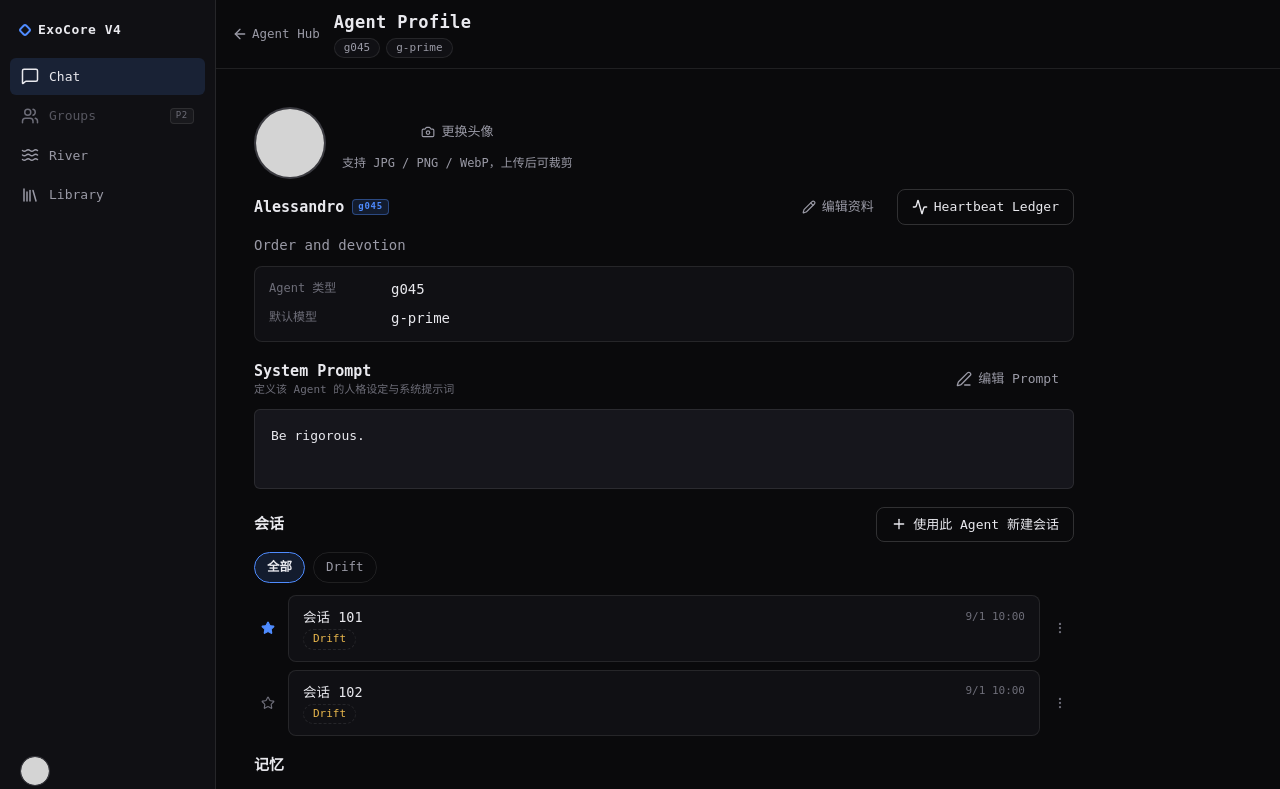
Prime Conversation Affordance (Gate 0 / CP-C, Plan §2.1 / §5.C) › PATCH error displays message and keeps dialog open for retry or cancellation
Check: the heading "Alessandro g045" is shown, box [254,196,389,218]
Click the button named "设为主会话": point(268, 703) [254,689,282,717]
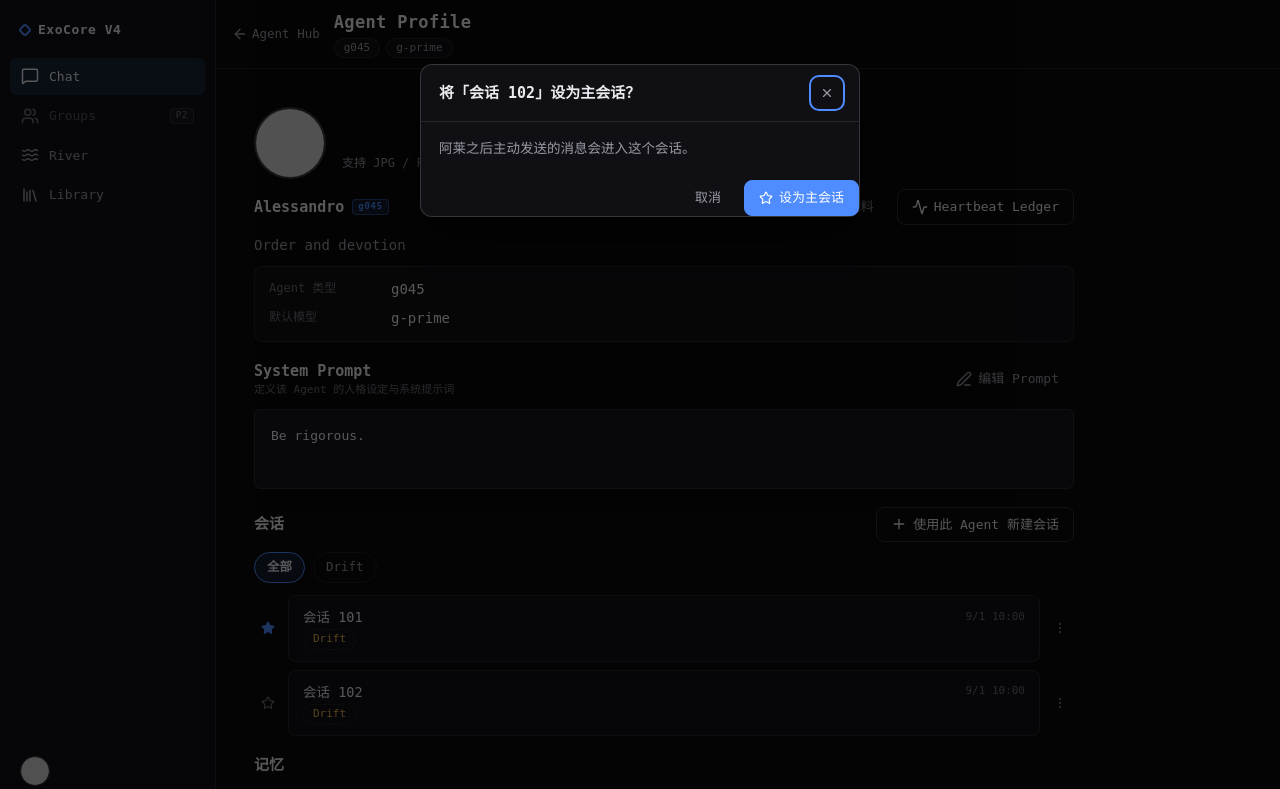
Click the button "设为主会话": point(802, 198) [744,180,859,216]
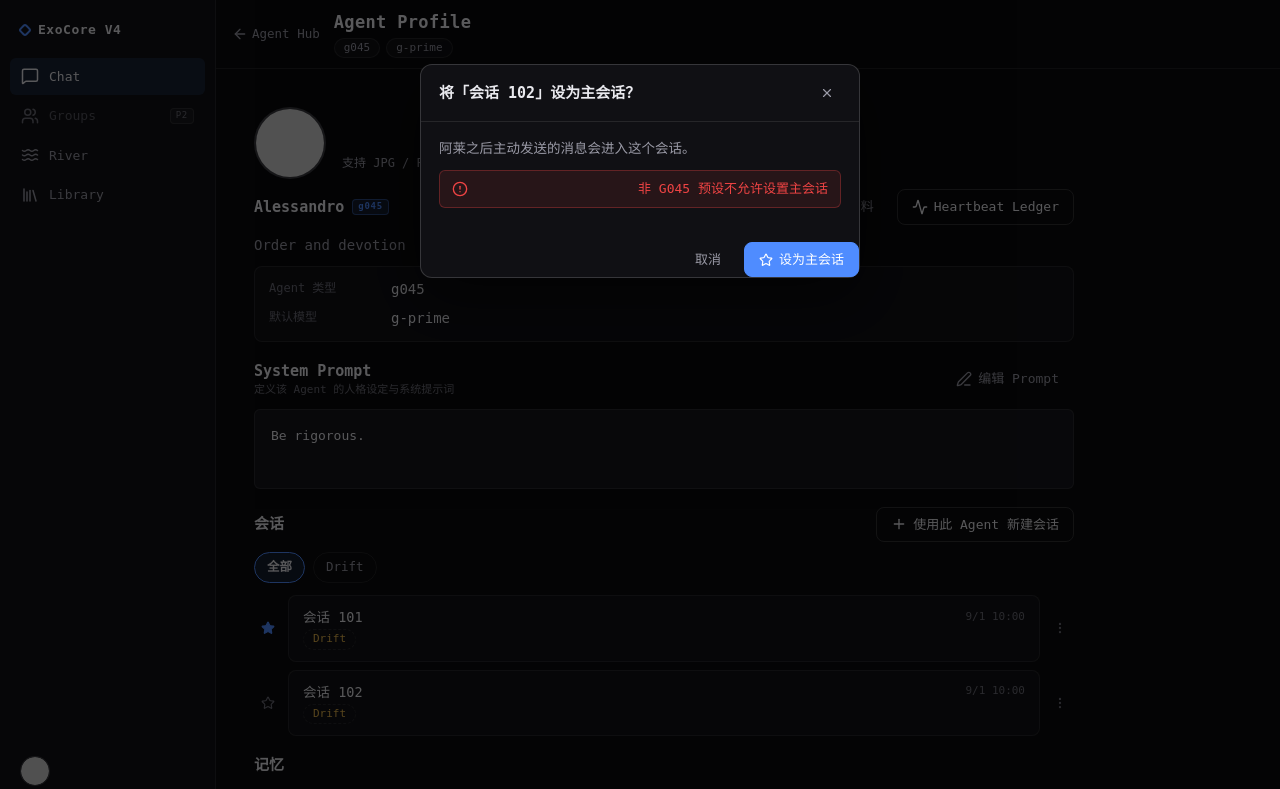
Check: the dialog is shown, box [420,64,860,278]
Check: the text "非 G045 预设不允许设置主会话" is shown, box [638,179,828,199]
Check: the message "非 G045 预设不允许设置主会话" is shown, box [439,170,841,208]
User can cancel cleanly
Click the button "取消": point(708, 260) [680,242,736,277]
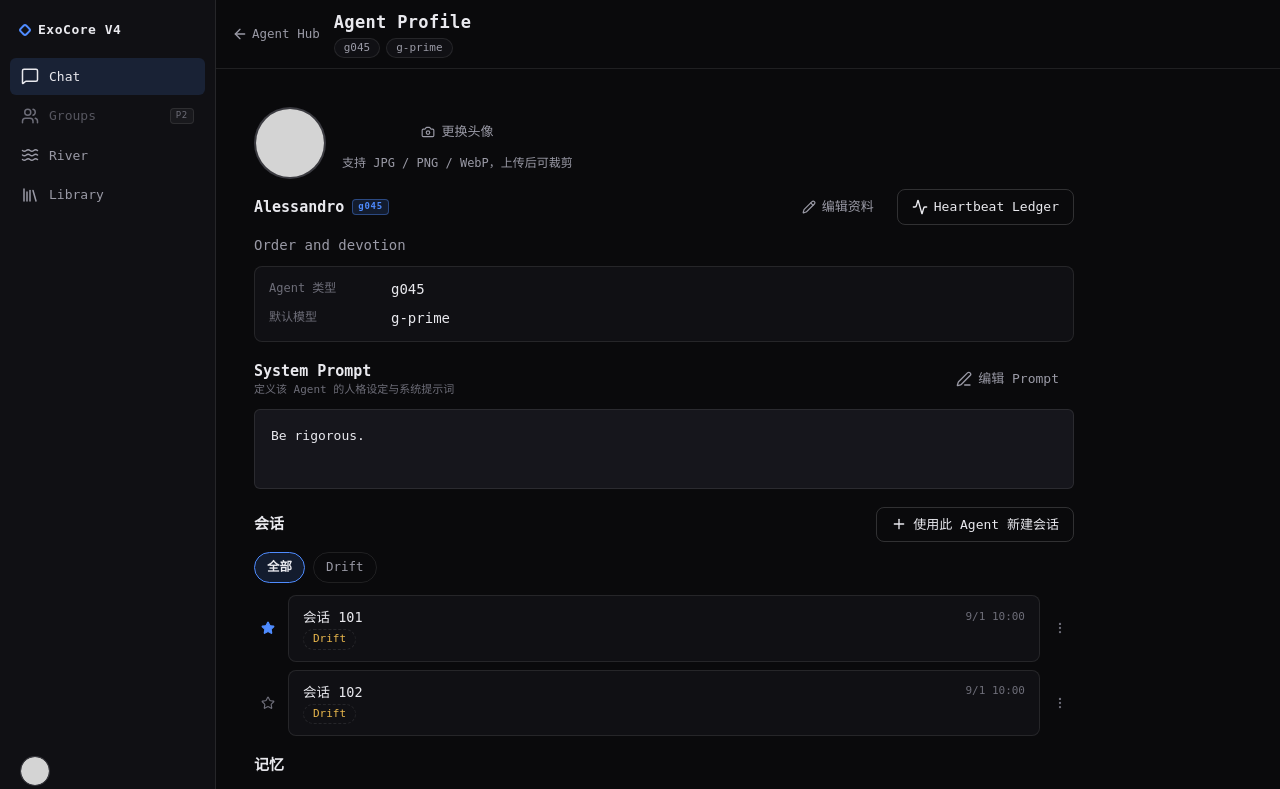
Check: the dialog is gone
